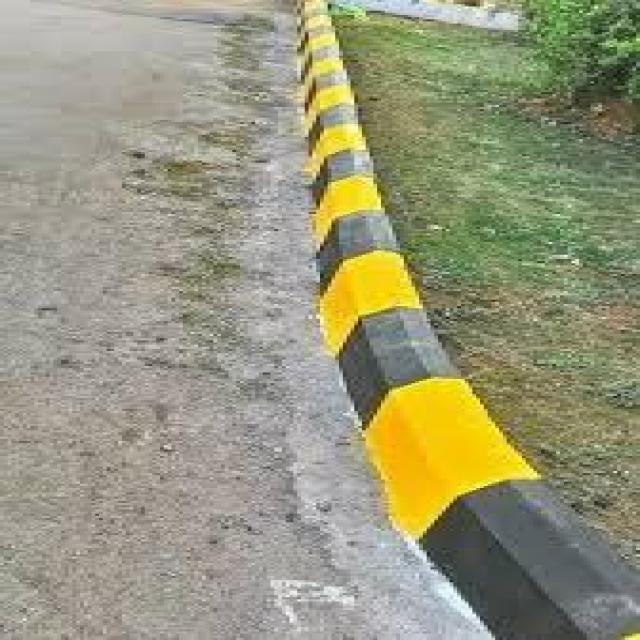bump: (310, 266, 640, 640), (286, 0, 433, 370)
